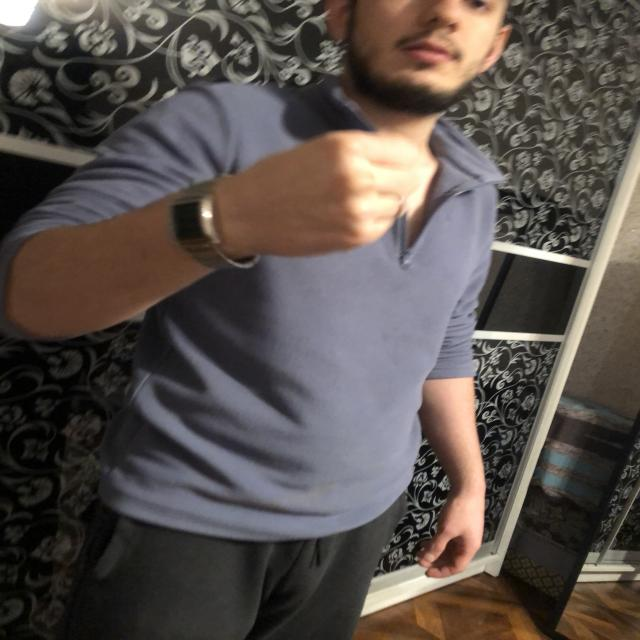rock: (295, 133, 420, 249)
